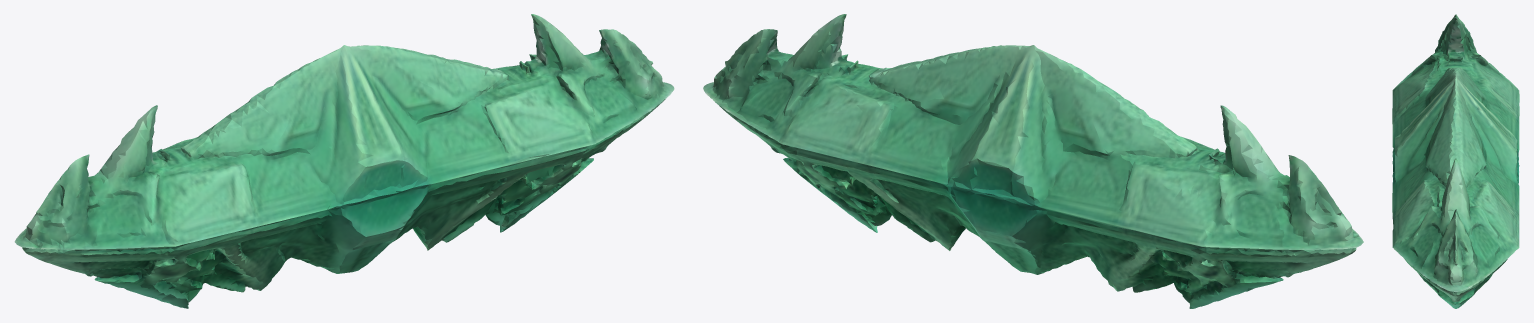
Rendered from surveyor_frigate.glb.
3 views of the same model, side by side, from view 1: azimuth 30°, elevation 25°; view 2: azimuth 150°, elevation 25°; view 3: azimuth 270°, elevation 25° (orthographic). The views are drawn at different scales.
Parts seen in each view (by area): view 1: surveyor_frigate; view 2: surveyor_frigate; view 3: surveyor_frigate.
Boxes of the visible parts, left/top/right/bottom form: surveyor_frigate: left=14, top=14, right=674, bottom=308; surveyor_frigate: left=703, top=14, right=1363, bottom=308; surveyor_frigate: left=1392, top=14, right=1519, bottom=308.
Bounding box in the file's own units: 1.89 × 0.6246 × 0.4134.
Materials: 1 (1 with a texture image).
